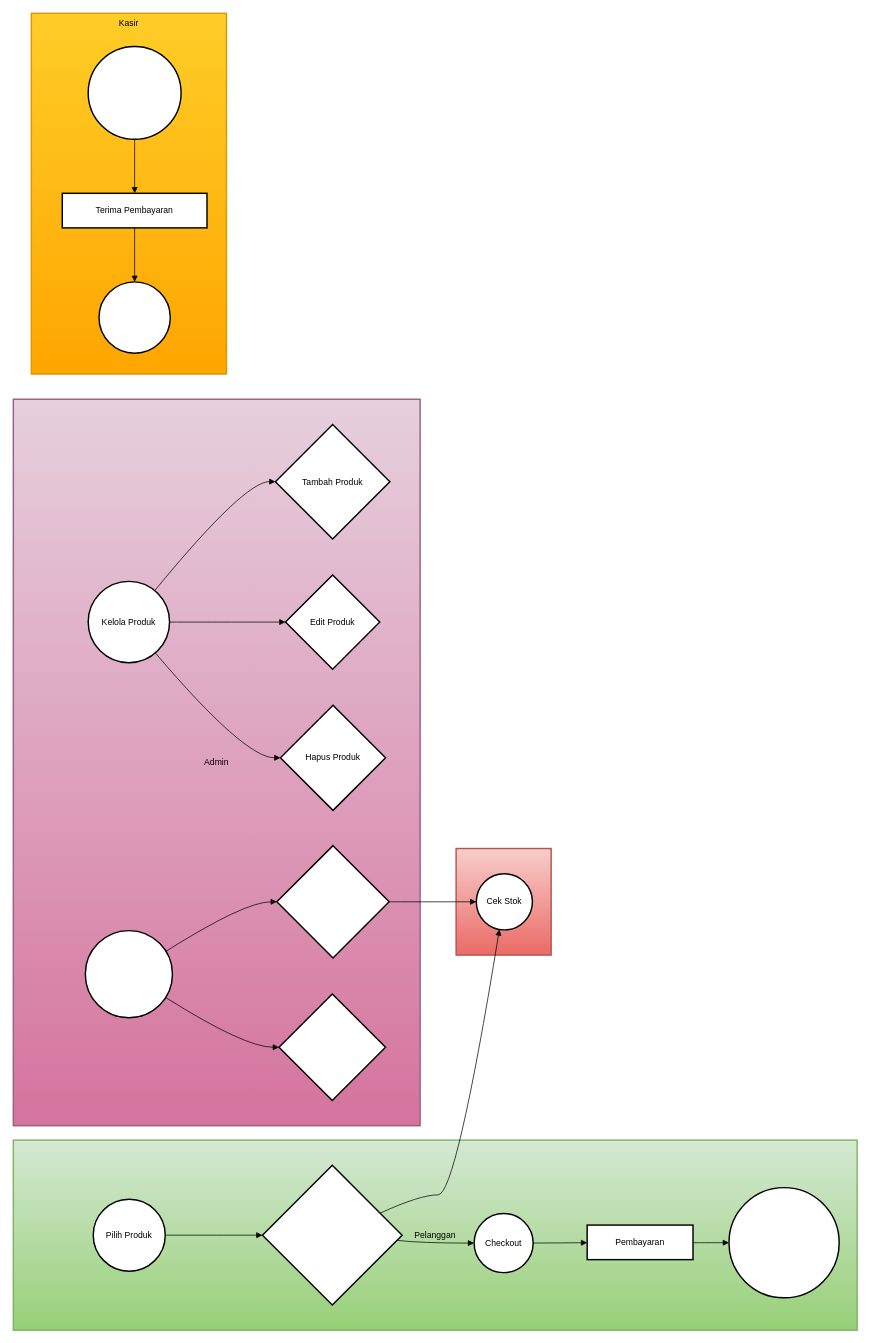
This 870x1343 diagram has some shape labels left out. The shapes that lost their labels are listed below. From the top down, each one's centre as x and y in pixels, then its label:
[134,92]: Proses Transaksi
[134,317]: Cetak Struk
[333,901]: Proses Pesanan
[128,974]: Kelola Pesanan
[332,1047]: Kirim Pesanan
[331,1234]: Masukkan Keranjang
[784,1242]: Konfirmasi Pesanan
